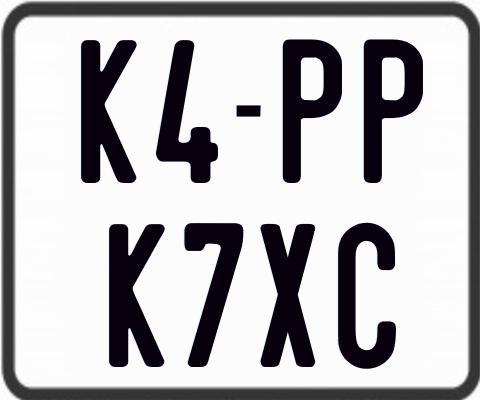4: (153, 40, 218, 189)
7: (182, 220, 247, 364)
C: (335, 222, 399, 371)
K: (79, 40, 138, 183), (107, 223, 165, 368)
P: (364, 37, 426, 185), (281, 38, 340, 185)
X: (261, 222, 316, 368)
